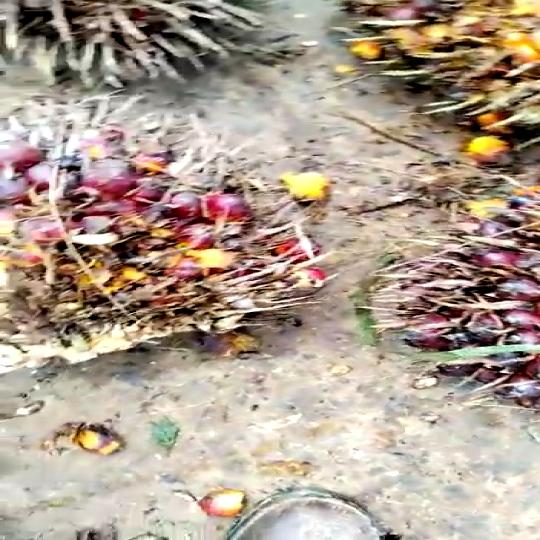masak: (0, 132, 378, 363)
